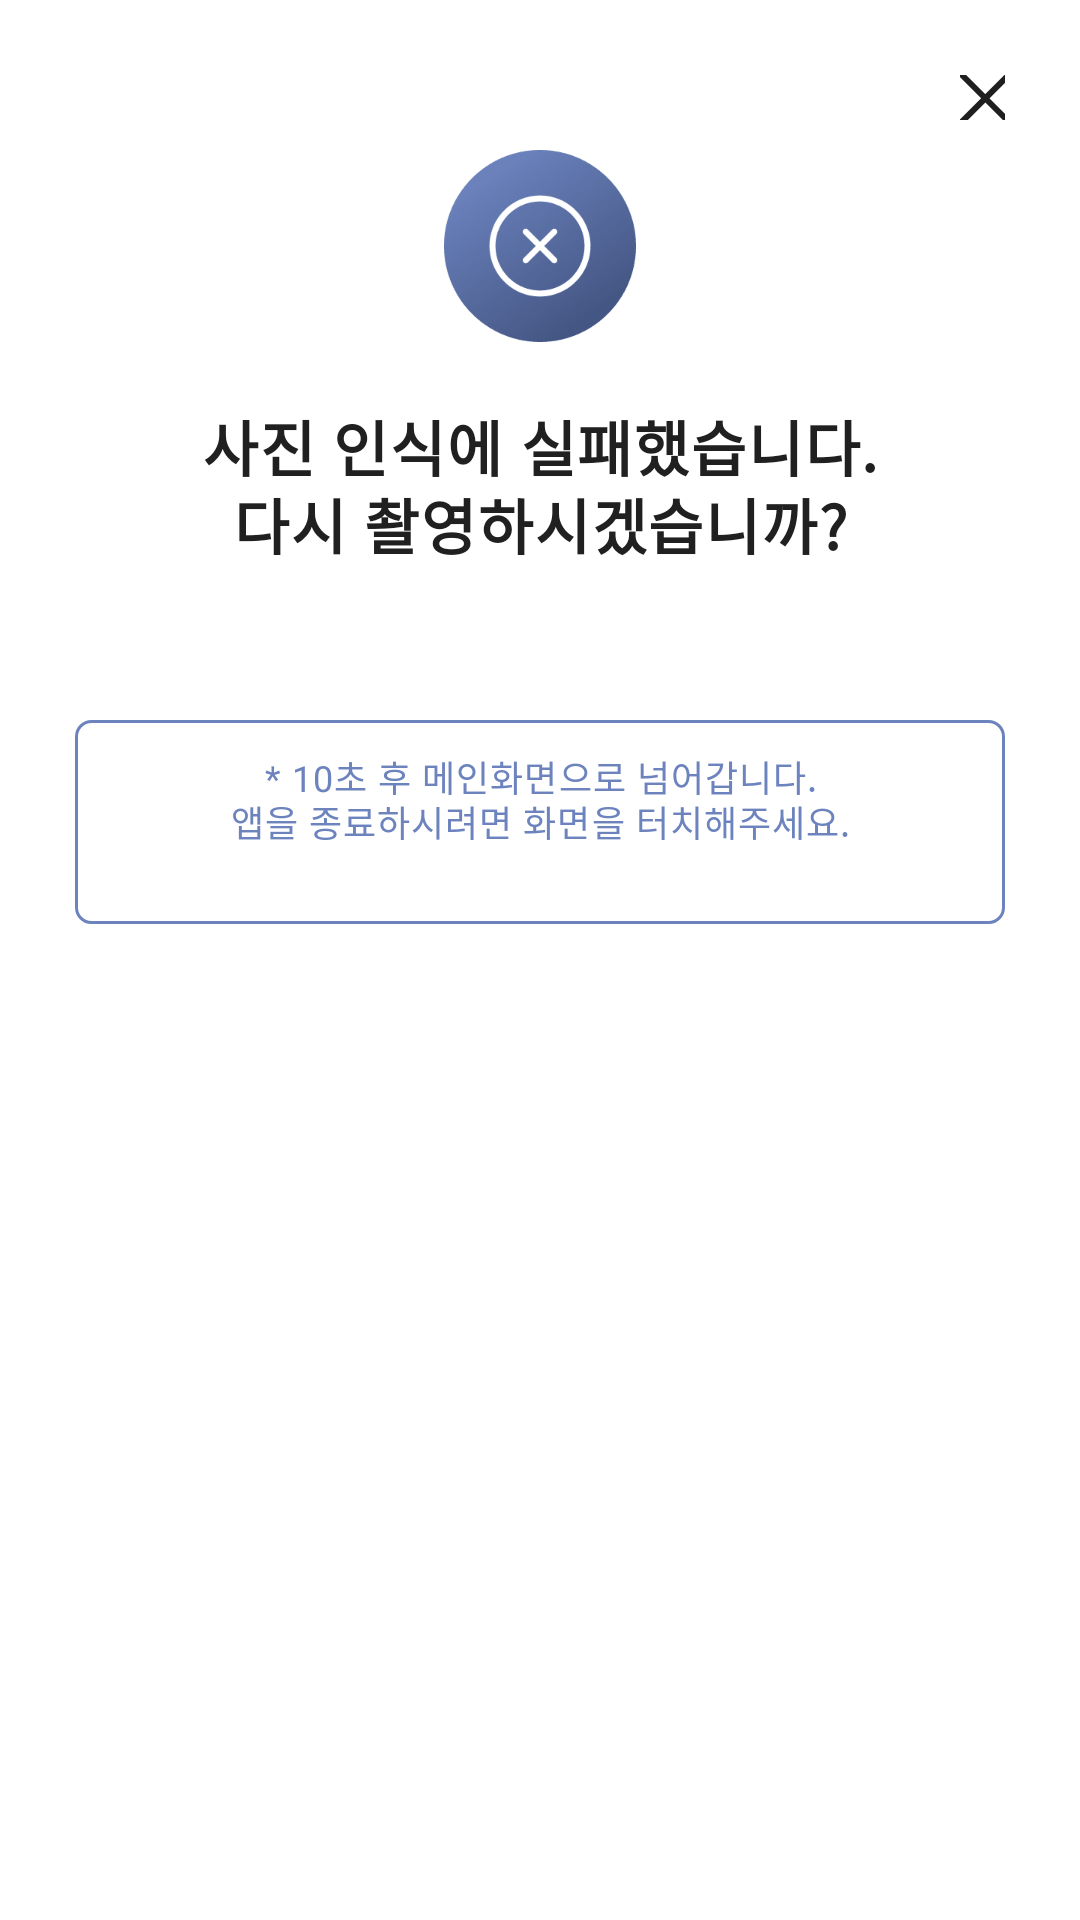

Named icons in this screenshot (1080*1920) and their centers, [x,y]:
failure: [982,97], [540,246]
